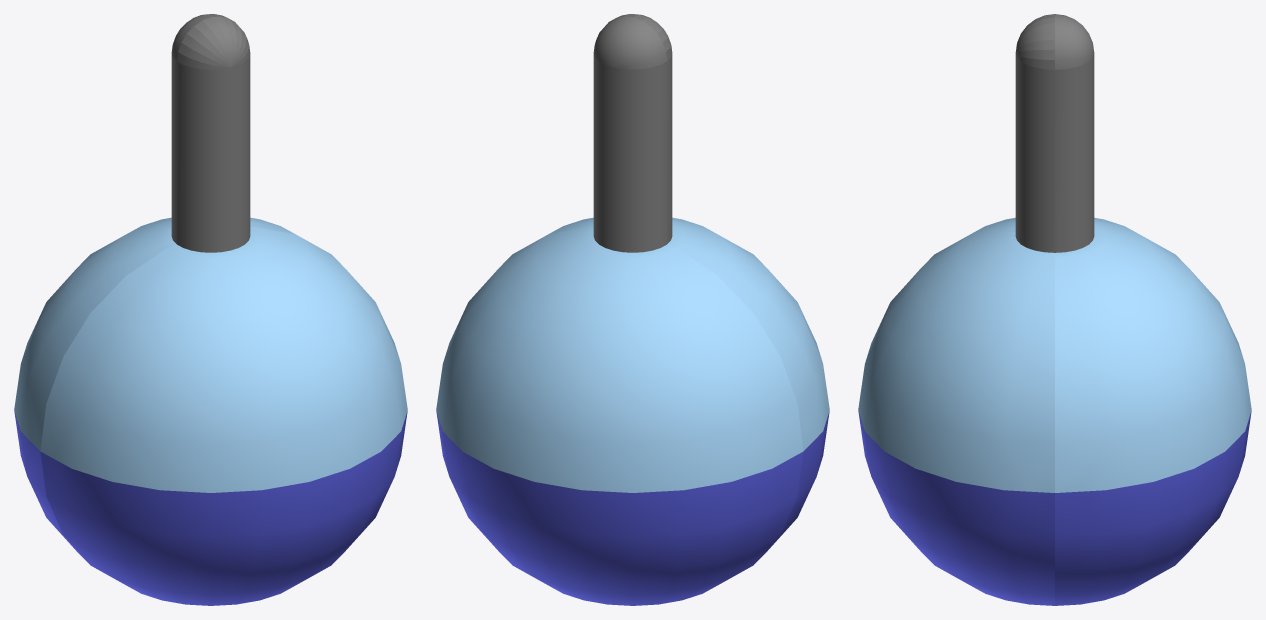
The picture shows the model from 3 angles, left to right: view 1: azimuth 30°, elevation 25°; view 2: azimuth 150°, elevation 25°; view 3: azimuth 270°, elevation 25°; orthographic projection.
Parts seen in each view (by area): view 1: root; view 2: root; view 3: root.
Boxes of the visible parts, x1,y1,x2,y2 form: root: (14,14,407,605); root: (436,14,829,605); root: (858,14,1251,605).
Bounding box in the file's own units: 1.27 × 2.03 × 1.27.
